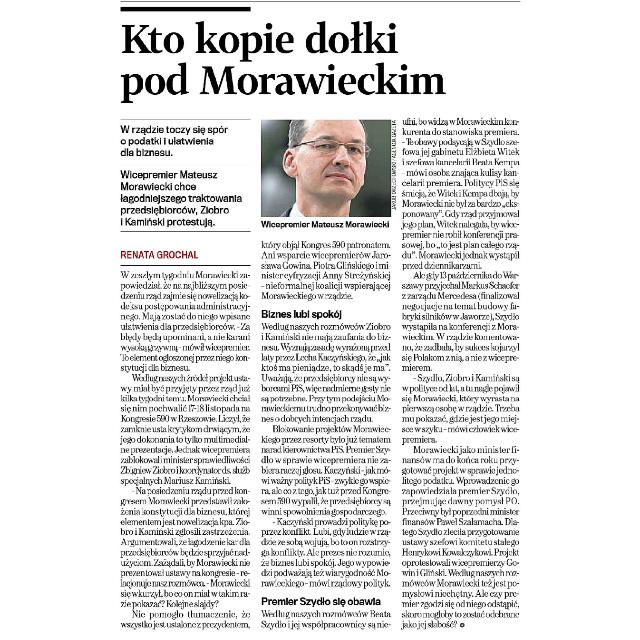author: (120, 245, 202, 262)
body: (400, 116, 524, 632), (260, 237, 394, 631), (119, 268, 254, 630)
caption: (260, 218, 394, 232)
image: (260, 118, 394, 218)
lead: (118, 122, 245, 230)
title: (120, 18, 454, 108)
